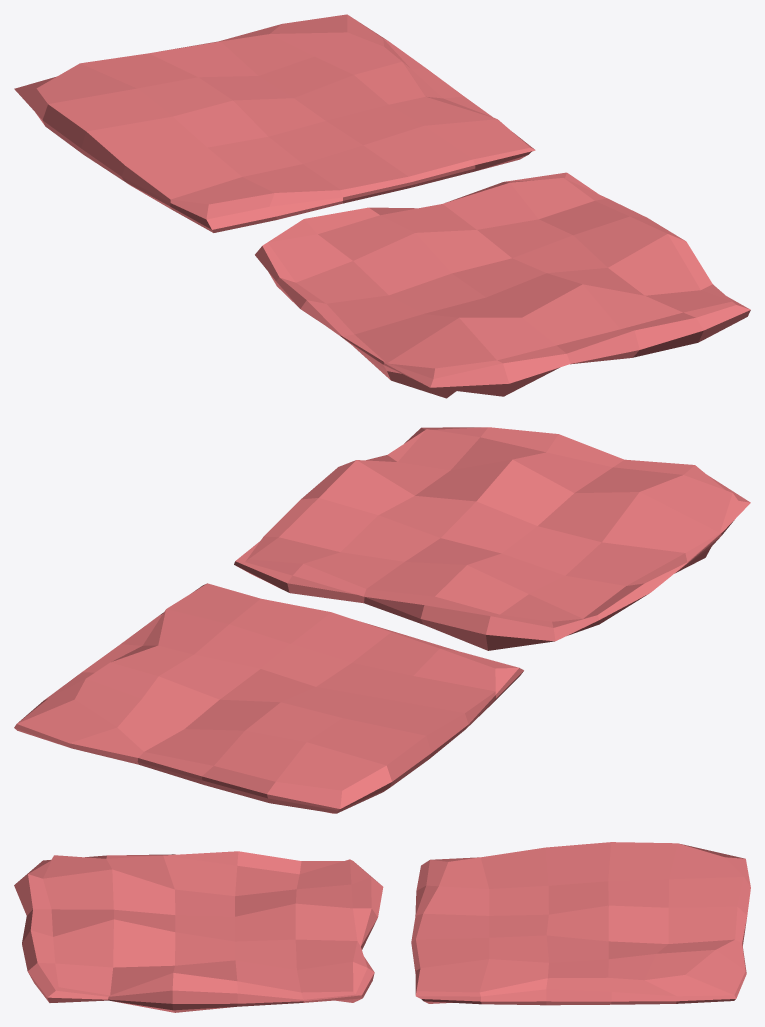
The model's file is 12-CaveFloor.fbx.
3 renders of one model, top to bottom at view 1: azimuth 30°, elevation 25°; view 2: azimuth 150°, elevation 25°; view 3: azimuth 270°, elevation 25°, orthographic. The views are drawn at different scales.
Visible parts, largest first — view 1: CaveFloorTwo, CaveFloorOne; view 2: CaveFloorTwo, CaveFloorOne; view 3: CaveFloorTwo, CaveFloorOne.
Boxes of the visible parts, x1,y1,x2,y2 form: CaveFloorTwo: [255, 172, 750, 398]; CaveFloorOne: [14, 14, 535, 232]; CaveFloorTwo: [234, 427, 750, 650]; CaveFloorOne: [14, 583, 523, 813]; CaveFloorTwo: [14, 851, 383, 1012]; CaveFloorOne: [411, 842, 750, 1005].
Bounding box in the file's own units: 467 × 76.16 × 986.
